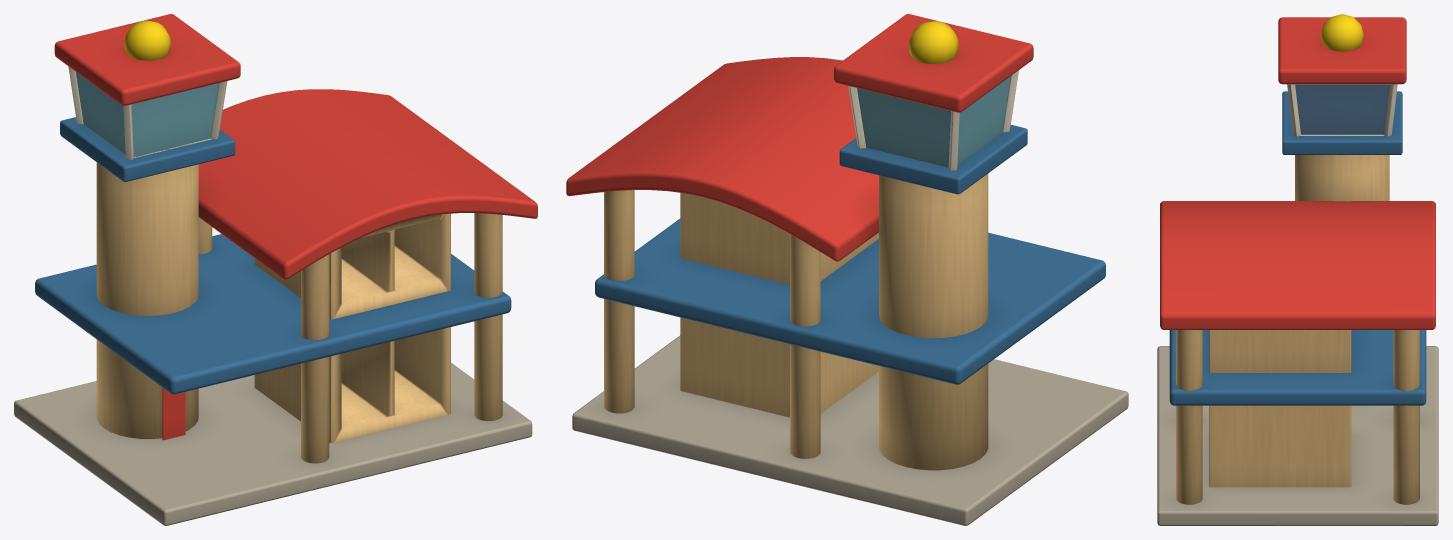
File: terminal.fbx
3 views of the same model, side by side, from view 1: azimuth 30°, elevation 25°; view 2: azimuth 150°, elevation 25°; view 3: azimuth 270°, elevation 25° (orthographic). The views are drawn at different scales.
Visible parts, largest first — view 1: terminal; view 2: terminal; view 3: terminal.
Boxes of the visible parts, left/top/right/bottom form: terminal: left=14, top=14, right=537, bottom=525; terminal: left=566, top=14, right=1128, bottom=525; terminal: left=1157, top=14, right=1438, bottom=525.
Size of the model in its own units: 4000 by 4186 by 2794.
1 material, 1 textured.
